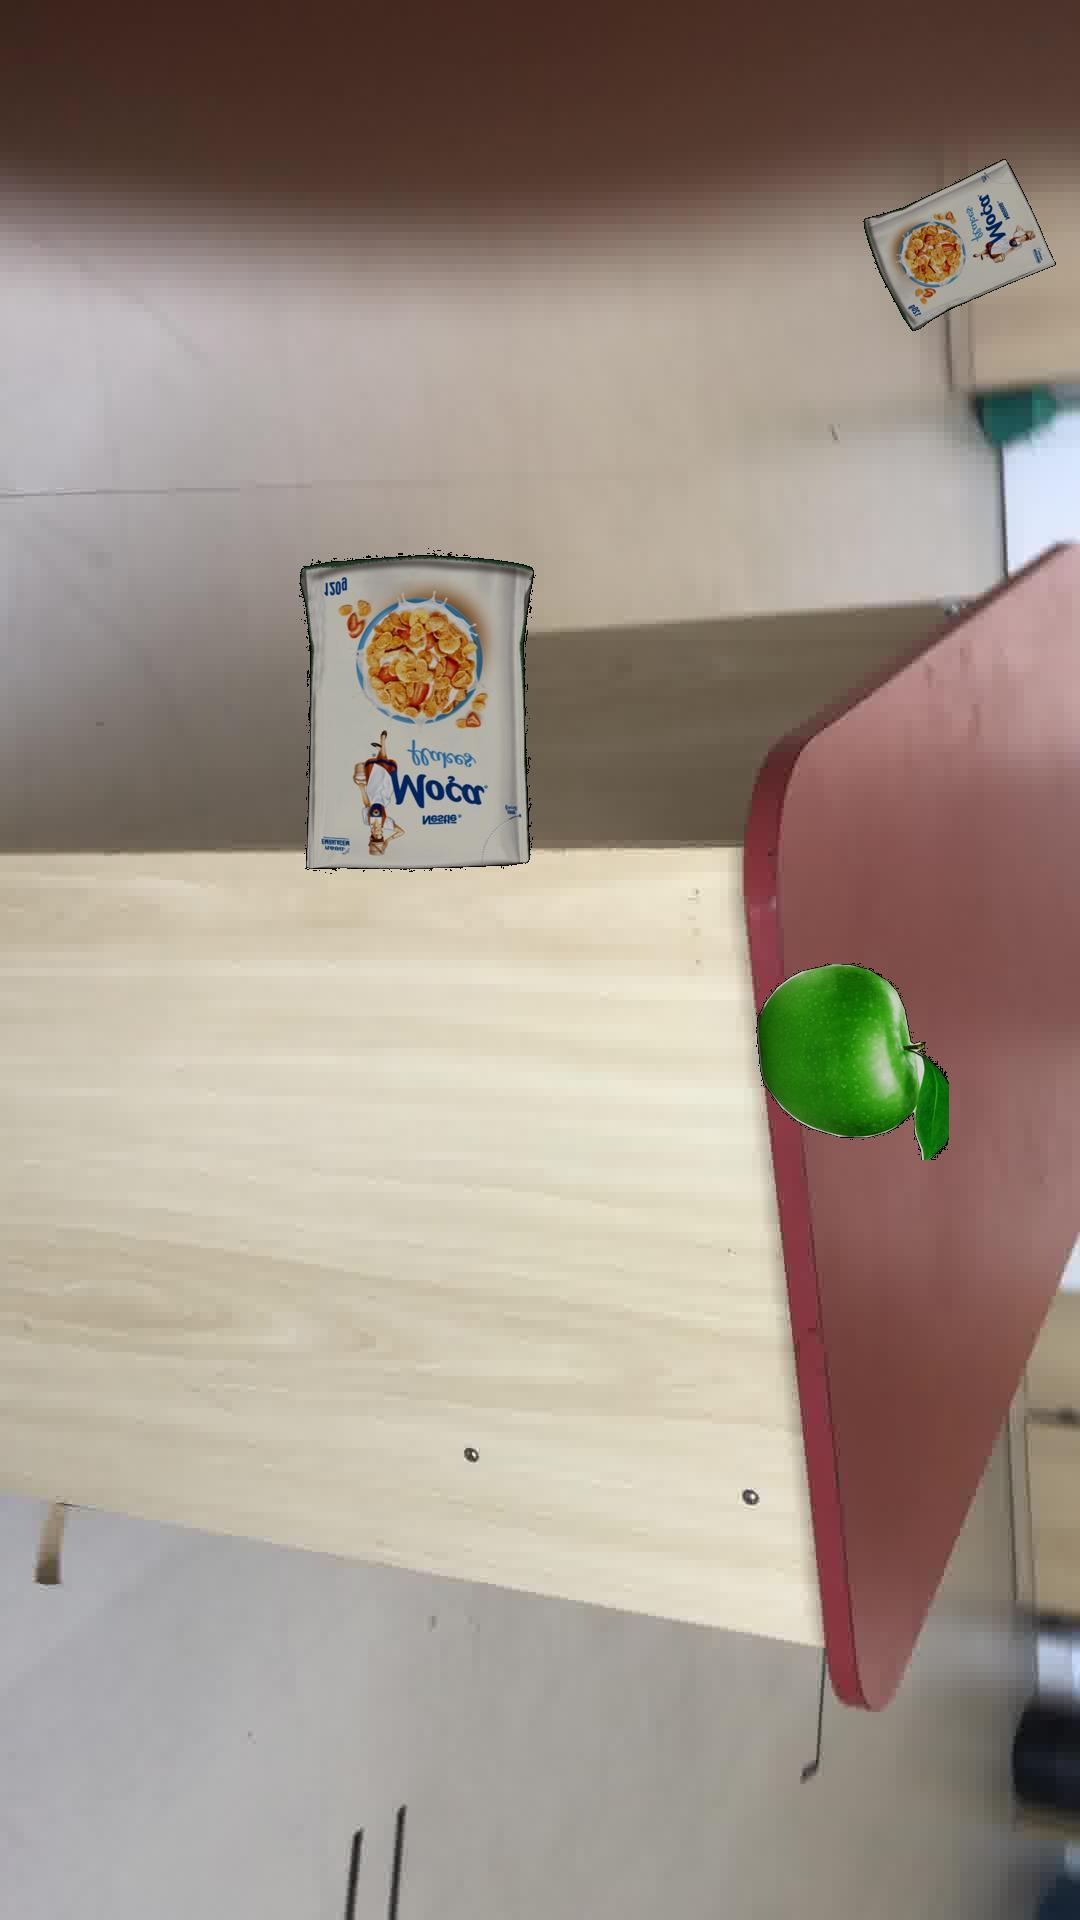corn flakes: (298, 551, 534, 869), (862, 157, 1055, 330)
green apple: (754, 963, 948, 1159)
